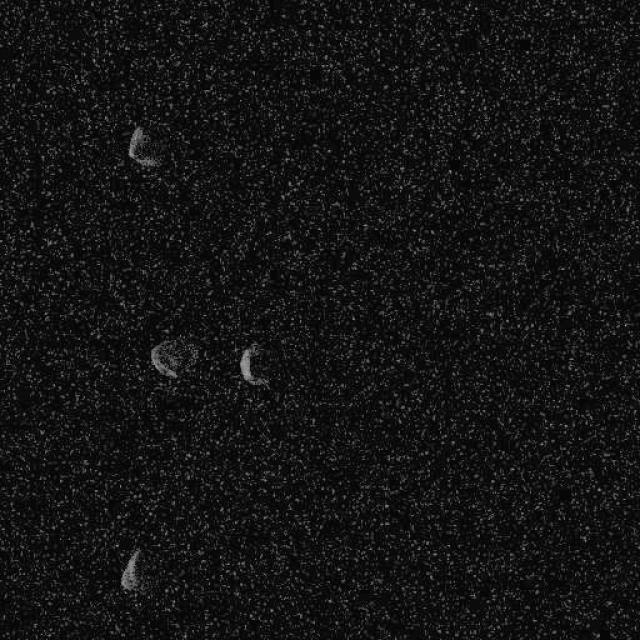D2: (148, 336, 198, 380), (126, 124, 165, 168), (238, 340, 272, 388), (119, 546, 142, 592)
